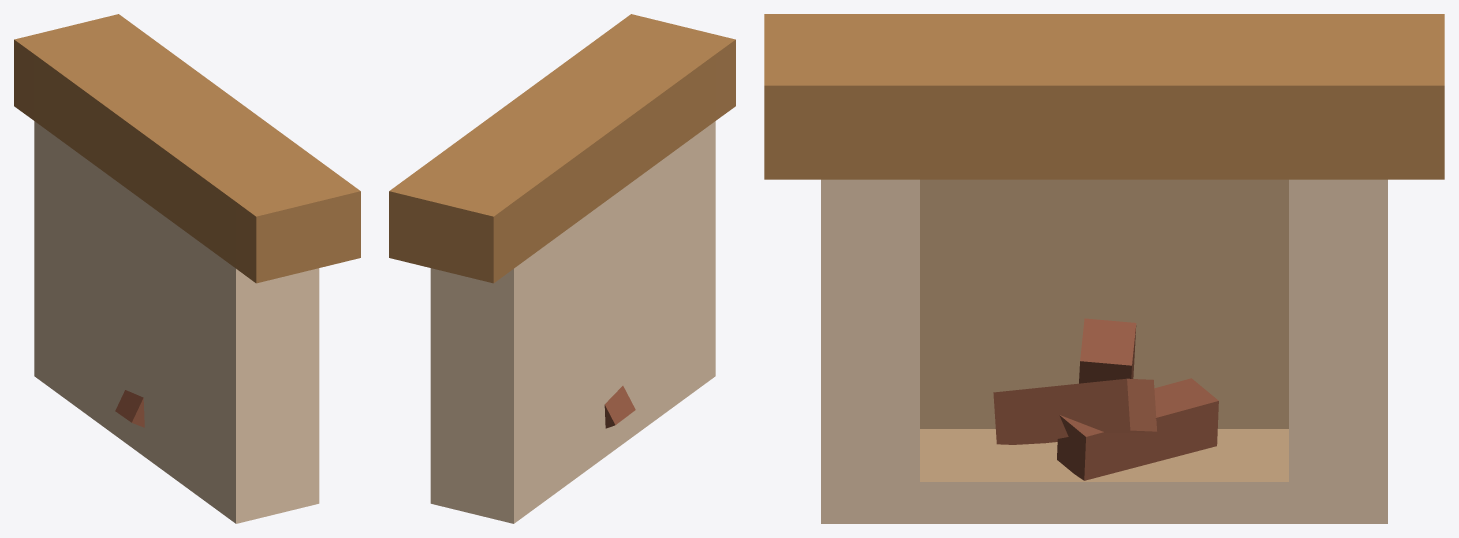
Rendered from fireplace.fbx.
3 renders of one model, left to right at view 1: azimuth 30°, elevation 25°; view 2: azimuth 150°, elevation 25°; view 3: azimuth 270°, elevation 25°, orthographic. The views are drawn at different scales.
Visible parts, largest first — view 1: polySurface1; view 2: polySurface1; view 3: polySurface1.
Boxes of the visible parts, x1,y1,x2,y2 form: polySurface1: (14,14,360,523); polySurface1: (389,14,735,523); polySurface1: (764,14,1444,523).
Size of the model in its own units: 4.55 by 11.99 by 16.33.
1 material, 1 textured.
